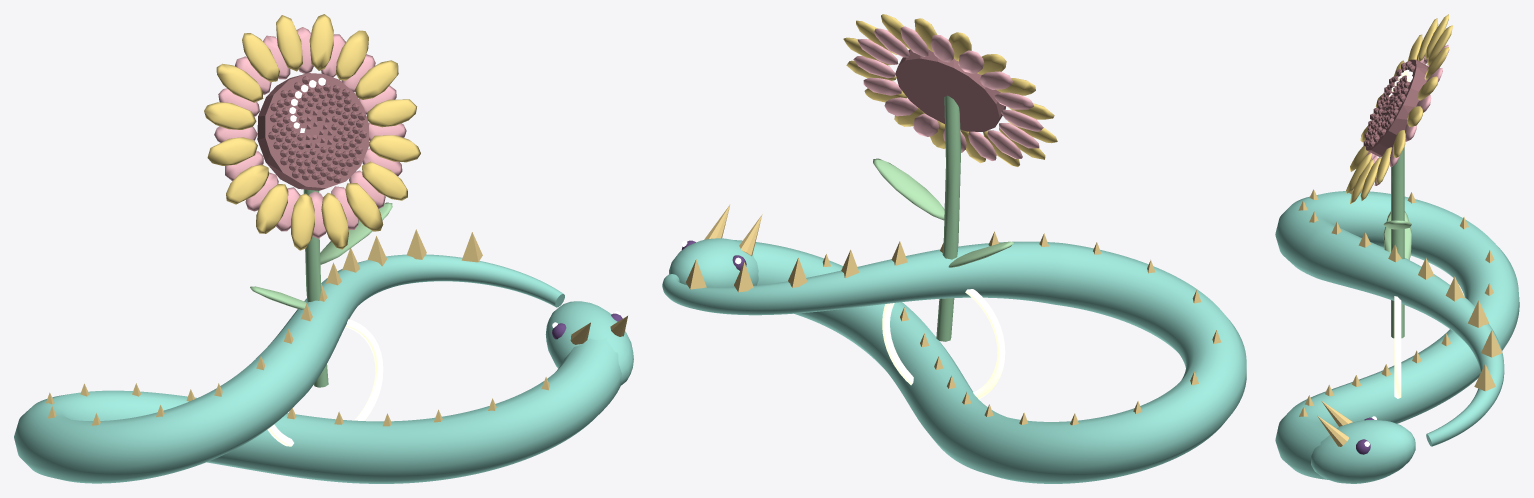
The model's file is props.glb.
The picture shows the model from 3 angles, left to right: view 1: azimuth 30°, elevation 25°; view 2: azimuth 150°, elevation 25°; view 3: azimuth 270°, elevation 25°; orthographic projection. The views are drawn at different scales.
Parts seen in each view (by area): view 1: p_ouroboros, p_sunflower; view 2: p_ouroboros, p_sunflower; view 3: p_ouroboros, p_sunflower.
Part boxes in pixels (x1,y1,x2,y2): p_ouroboros: (14,229,633,483); p_sunflower: (204,14,420,387); p_ouroboros: (662,204,1246,483); p_sunflower: (843,14,1057,341); p_ouroboros: (1275,189,1519,483); p_sunflower: (1346,14,1452,338).
Bounding box in the file's own units: 2.95 × 2.17 × 1.23.
